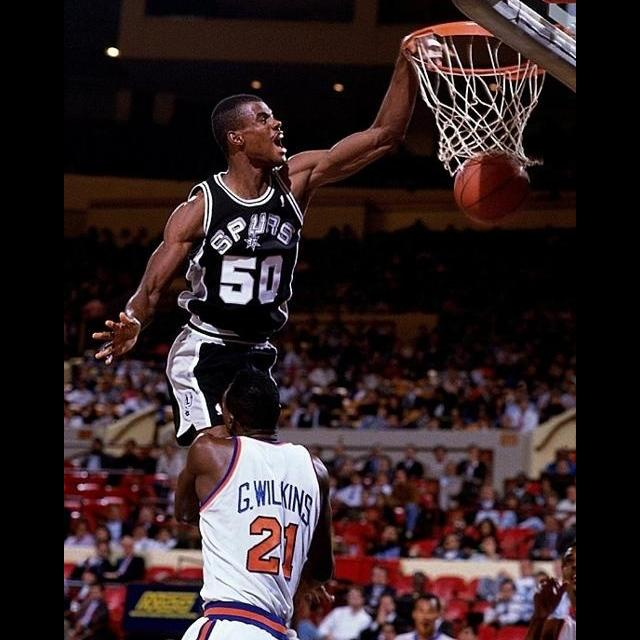basketball: (455, 152, 529, 223)
hoop: (398, 10, 574, 229)
